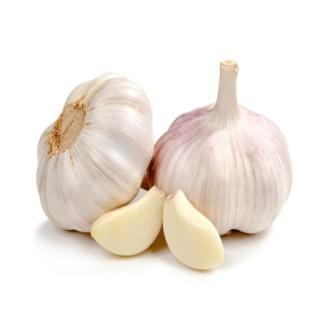Bawang Putih: (155, 61, 294, 237), (37, 73, 157, 234), (163, 190, 226, 272), (92, 189, 168, 256)
